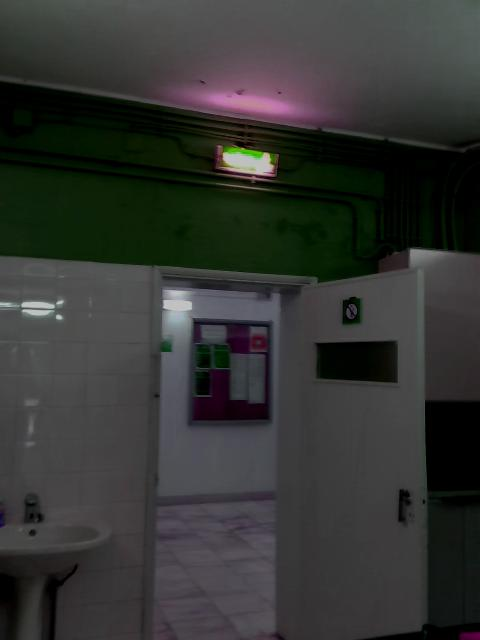open_door: (143, 264, 317, 639)
